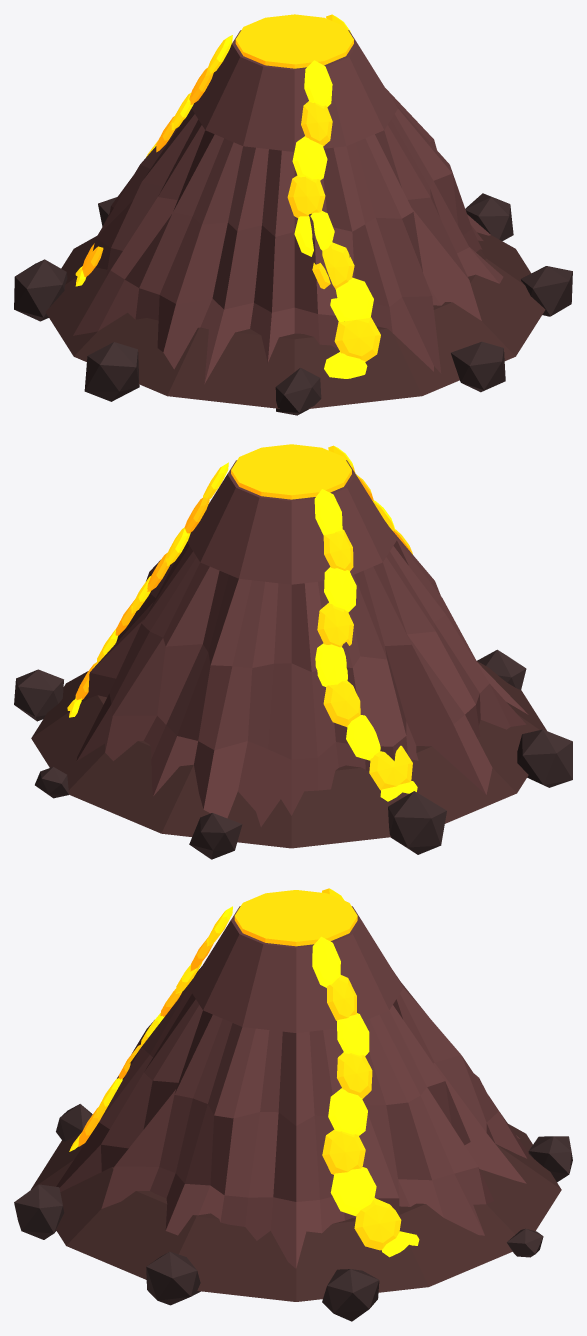
The model's file is volcano.glb.
The picture shows the model from 3 angles, top to bottom: view 1: azimuth 30°, elevation 25°; view 2: azimuth 150°, elevation 25°; view 3: azimuth 270°, elevation 25°; orthographic projection. The views are drawn at different scales.
Visible parts, largest first — view 1: volcano; view 2: volcano; view 3: volcano.
Boxes of the visible parts, x1,y1,x2,y2 form: volcano: [14, 14, 572, 415]; volcano: [14, 444, 572, 859]; volcano: [14, 888, 572, 1321].
Size of the model in its own units: 27.47 by 15.57 by 26.31.
